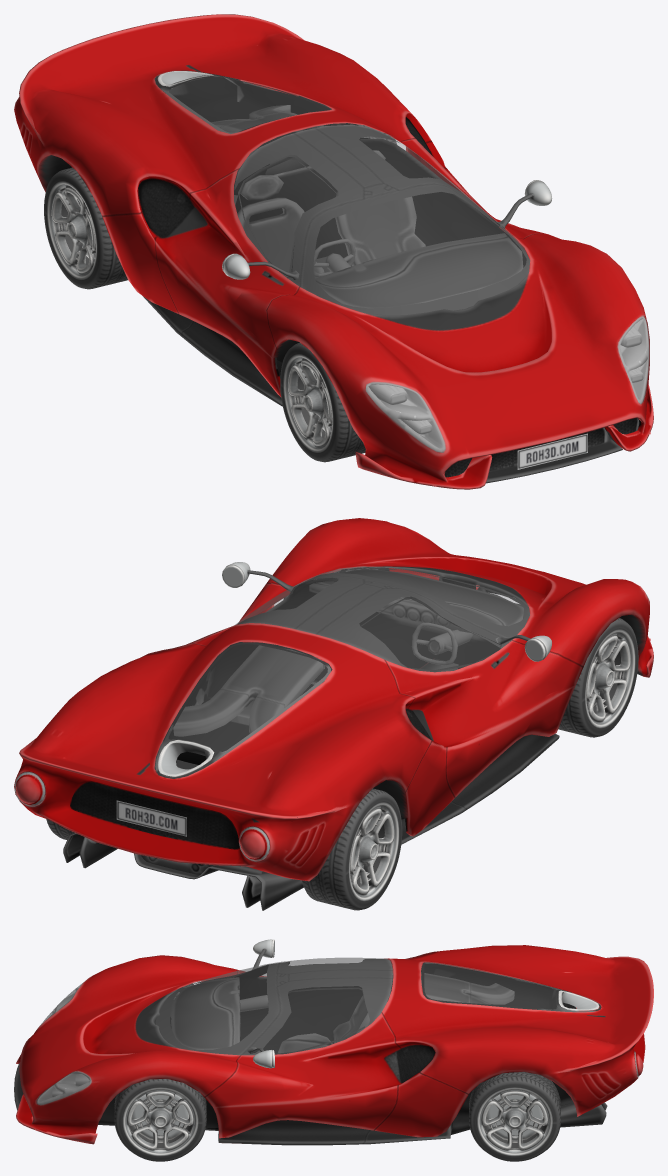
The model's file is car6.glb.
3 views of the same model, one above another, from view 1: azimuth 30°, elevation 25°; view 2: azimuth 150°, elevation 25°; view 3: azimuth 270°, elevation 25° (orthographic). The views are drawn at different scales.
Parts seen in each view (by area): view 1: Object_4, Object_2, Object_3; view 2: Object_4, Object_2, Object_3; view 3: Object_4, Object_2, Object_3.
Boxes of the visible parts, left/top/right/bottom form: Object_4: left=14, top=14, right=651, bottom=486; Object_2: left=38, top=70, right=649, bottom=482; Object_3: left=45, top=71, right=653, bottom=489; Object_4: left=14, top=518, right=651, bottom=910; Object_2: left=14, top=566, right=649, bottom=910; Object_3: left=14, top=558, right=653, bottom=910; Object_4: left=14, top=939, right=653, bottom=1160; Object_2: left=23, top=957, right=638, bottom=1149; Object_3: left=14, top=939, right=645, bottom=1161.
Size of the model in its own units: 2075 by 1108 by 4739.
1 material, 1 textured.
